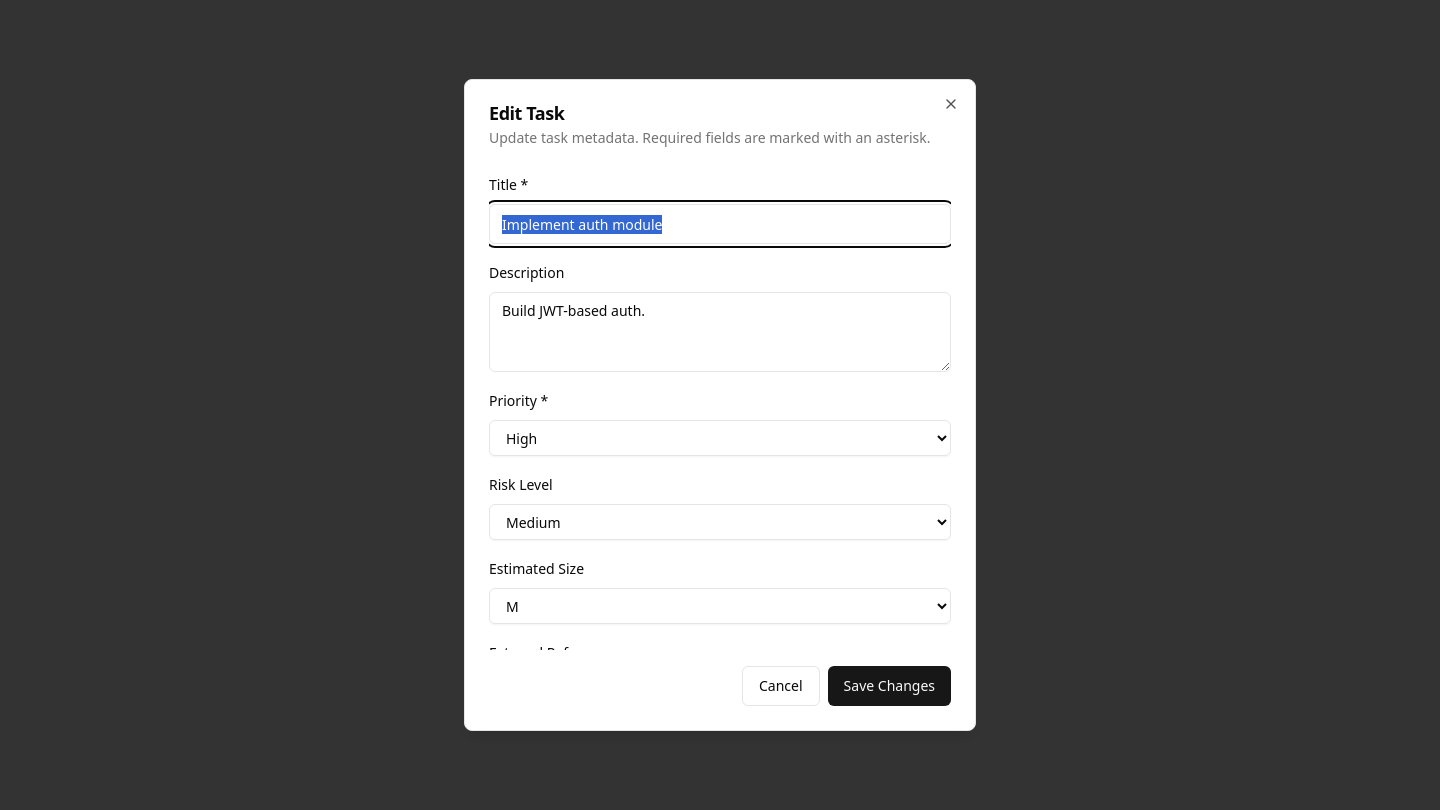
Test: EditTaskDialog › shows saving text during submission
Click the button with test id "edit-task-submit" at point(889, 686), box [828, 666, 951, 706]
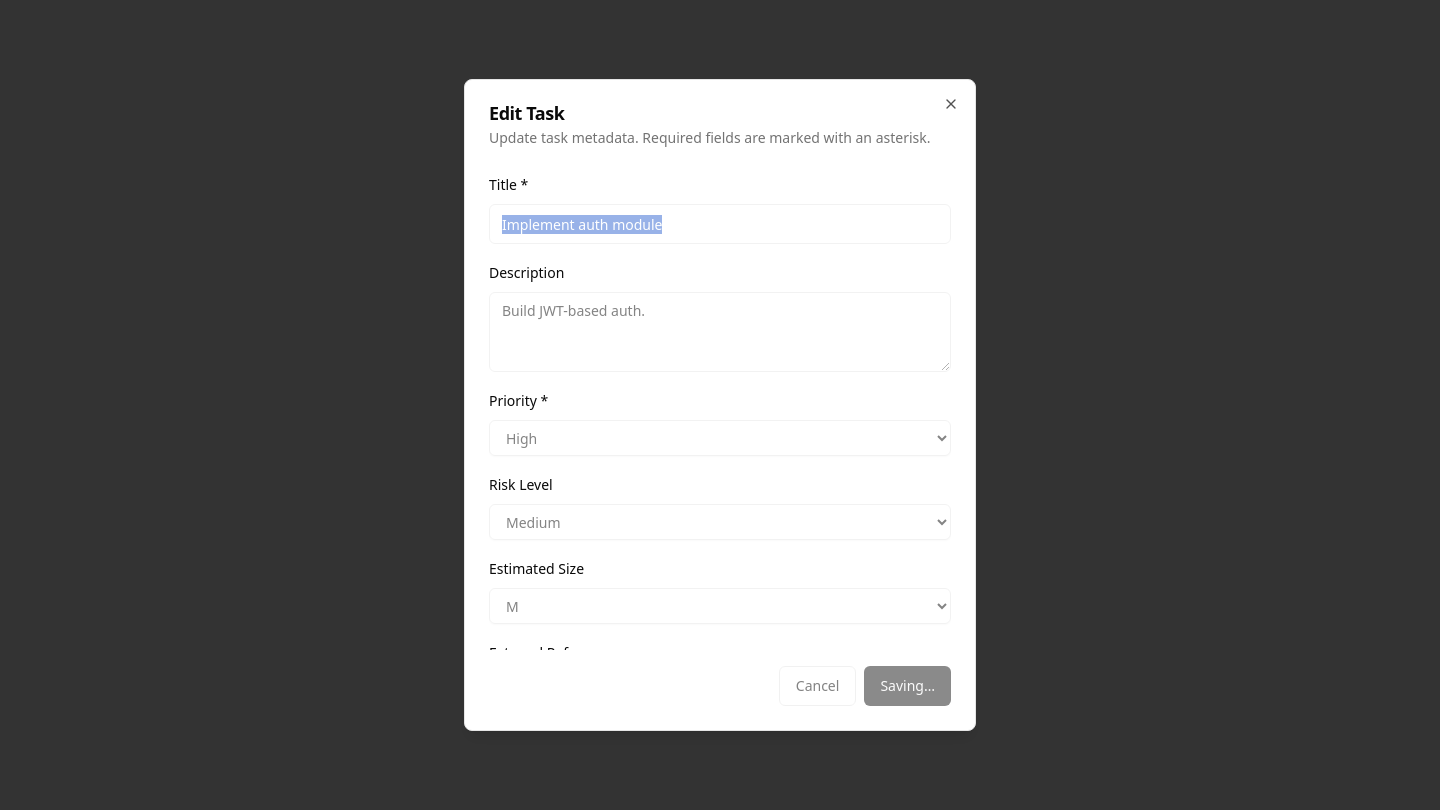
expect the button with test id "edit-task-submit" reads "Saving…": met, box [864, 666, 951, 706]
